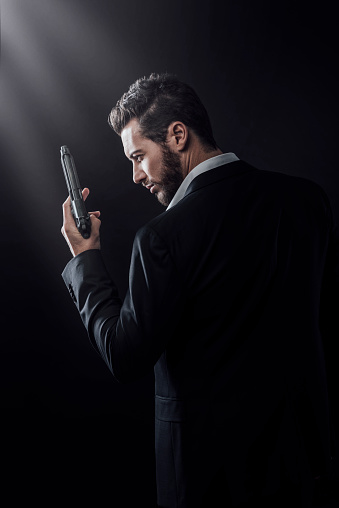gun: (55, 143, 94, 242)
